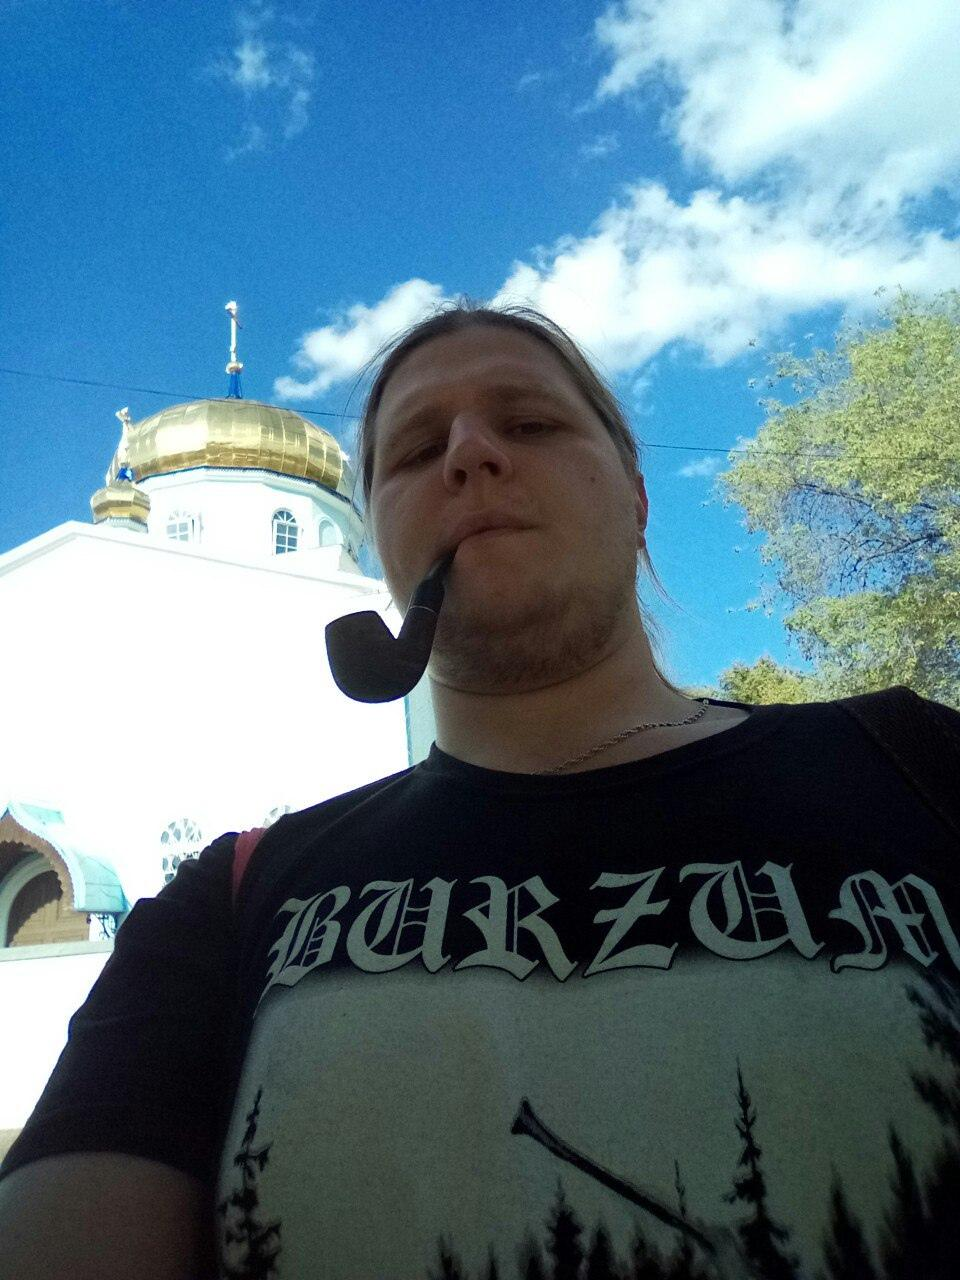trubka: (324, 547, 457, 706)
